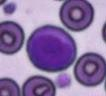L: (26, 25, 78, 72)
